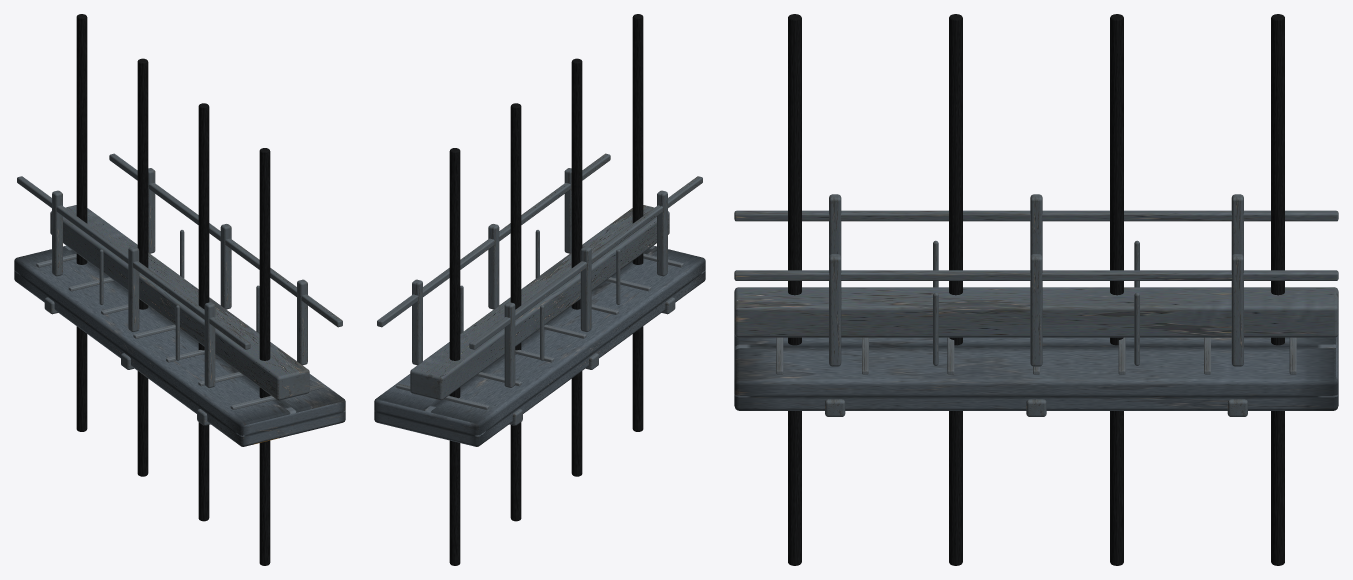
File: walkway_deck.glb
3 renders of one model, left to right at view 1: azimuth 30°, elevation 25°; view 2: azimuth 150°, elevation 25°; view 3: azimuth 270°, elevation 25°, orthographic. The views are drawn at different scales.
Visible parts, largest first — view 1: WalkwayDeck, WalkwayTray, WalkwayCable3, WalkwayCable0, WalkwayCable1, WalkwayCable2, WalkwayRail-10, WalkwayRail10, WalkwayPost-102, WalkwayPost-101, WalkwayPost101, WalkwayPost-100 (+2 smaller); view 2: WalkwayDeck, WalkwayTray, WalkwayCable0, WalkwayCable3, WalkwayCable2, WalkwayCable1, WalkwayRail-10, WalkwayRail10, WalkwayPost-100, WalkwayPost-101, WalkwayPost101, WalkwayPost-102 (+2 smaller); view 3: WalkwayDeck, WalkwayTray, WalkwayRail10, WalkwayRail-10, WalkwayCable0, WalkwayCable3, WalkwayCable1, WalkwayCable2, WalkwayPost100, WalkwayPost102, WalkwayPost101, WalkwayPost-100 (+2 smaller).
Part boxes in pixels (bbox=[...]): WalkwayDeck: bbox=[14, 245, 345, 446]; WalkwayTray: bbox=[50, 205, 309, 400]; WalkwayCable3: bbox=[259, 148, 270, 565]; WalkwayCable0: bbox=[76, 14, 87, 431]; WalkwayCable1: bbox=[137, 58, 148, 476]; WalkwayCable2: bbox=[198, 103, 209, 521]; WalkwayRail-10: bbox=[17, 176, 250, 349]; WalkwayRail10: bbox=[109, 153, 342, 327]; WalkwayPost-102: bbox=[204, 302, 215, 387]; WalkwayPost-101: bbox=[128, 246, 139, 332]; WalkwayPost101: bbox=[220, 224, 231, 309]; WalkwayPost-100: bbox=[52, 190, 62, 276]; WalkwayDeck: bbox=[374, 245, 705, 446]; WalkwayTray: bbox=[410, 205, 669, 400]; WalkwayCable0: bbox=[449, 148, 460, 565]; WalkwayCable3: bbox=[632, 14, 643, 431]; WalkwayCable2: bbox=[571, 58, 582, 476]; WalkwayCable1: bbox=[510, 103, 521, 521]; WalkwayRail-10: bbox=[469, 176, 702, 349]; WalkwayRail10: bbox=[377, 153, 610, 327]; WalkwayPost-100: bbox=[504, 302, 515, 387]; WalkwayPost-101: bbox=[580, 246, 591, 332]; WalkwayPost101: bbox=[488, 224, 499, 309]; WalkwayPost-102: bbox=[657, 190, 667, 276]; WalkwayDeck: bbox=[734, 334, 1338, 410]; WalkwayTray: bbox=[734, 287, 1338, 337]; WalkwayRail10: bbox=[734, 270, 1338, 280]; WalkwayRail-10: bbox=[734, 210, 1338, 221]; WalkwayCable0: bbox=[1271, 14, 1284, 565]; WalkwayCable3: bbox=[788, 14, 801, 565]; WalkwayCable1: bbox=[1110, 14, 1123, 565]; WalkwayCable2: bbox=[949, 14, 962, 565]; WalkwayPost100: bbox=[1231, 254, 1243, 366]; WalkwayPost102: bbox=[829, 254, 841, 366]; WalkwayPost101: bbox=[1030, 254, 1042, 366]; WalkwayPost-100: bbox=[1231, 194, 1243, 256].
Bounding box in the file's own units: 1.7 × 6 × 6.
4 materials, 4 textured.
